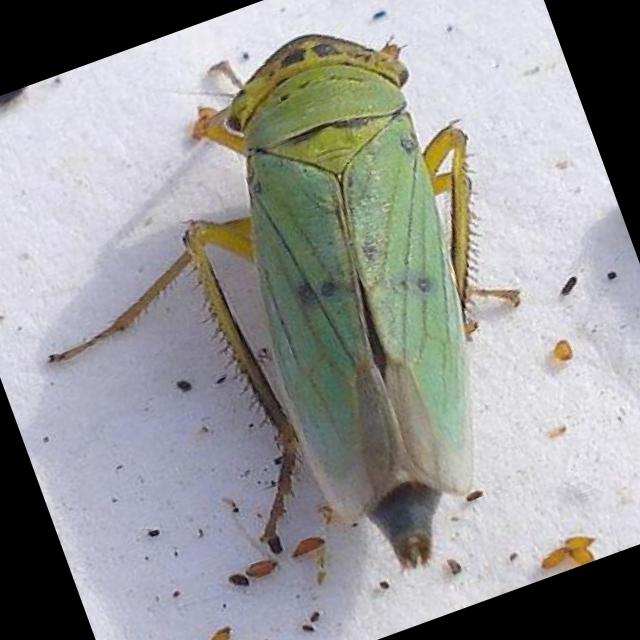green-leafhopper: (41, 39, 522, 569)
